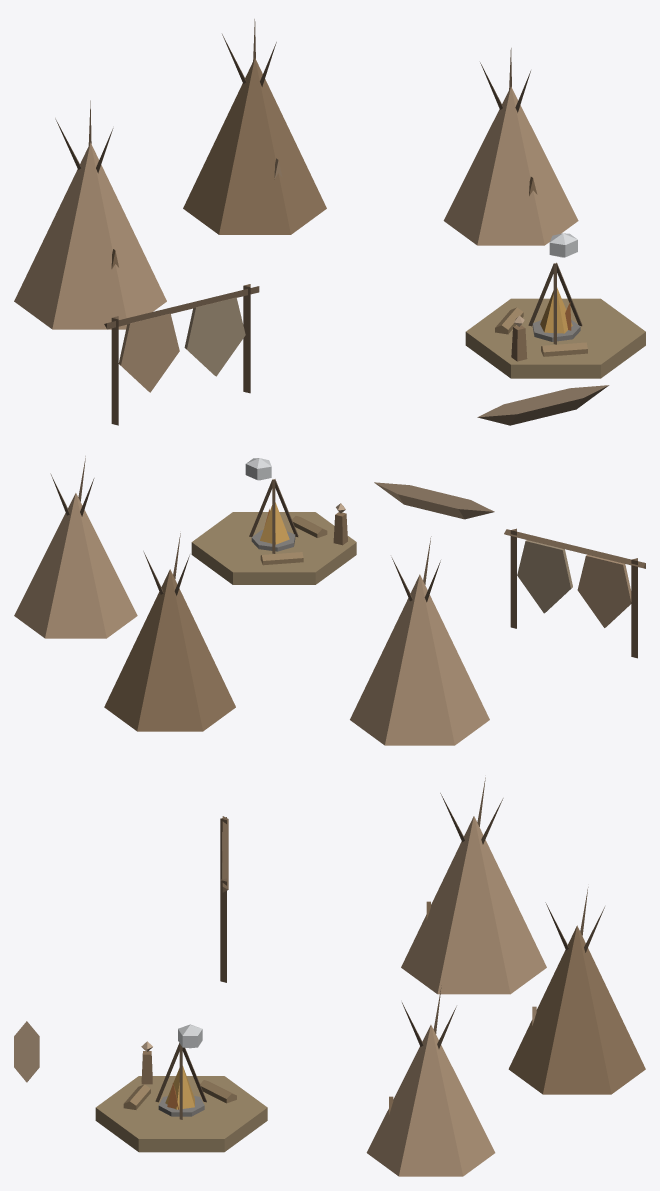
File: camp.glb
3 views of the same model, one above another, from view 1: azimuth 30°, elevation 25°; view 2: azimuth 150°, elevation 25°; view 3: azimuth 270°, elevation 25° (orthographic). The views are drawn at different scales.
Visible parts, largest first — view 1: LOD0; view 2: LOD0; view 3: LOD0.
Boxes of the visible parts, x1,y1,x2,y2 form: LOD0: (14, 19, 645, 425); LOD0: (14, 456, 645, 745); LOD0: (14, 777, 645, 1176).
Size of what is drawn, in the model's own units: 1.44 by 0.48 by 1.47.
